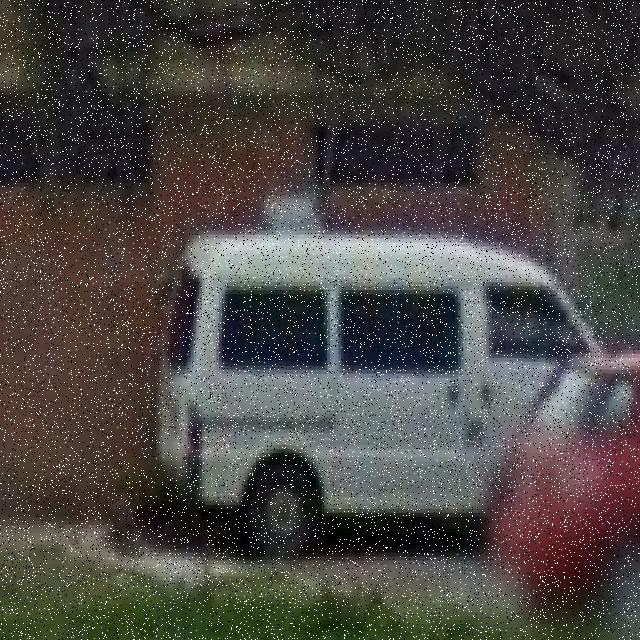cars: (167, 235, 562, 553)
